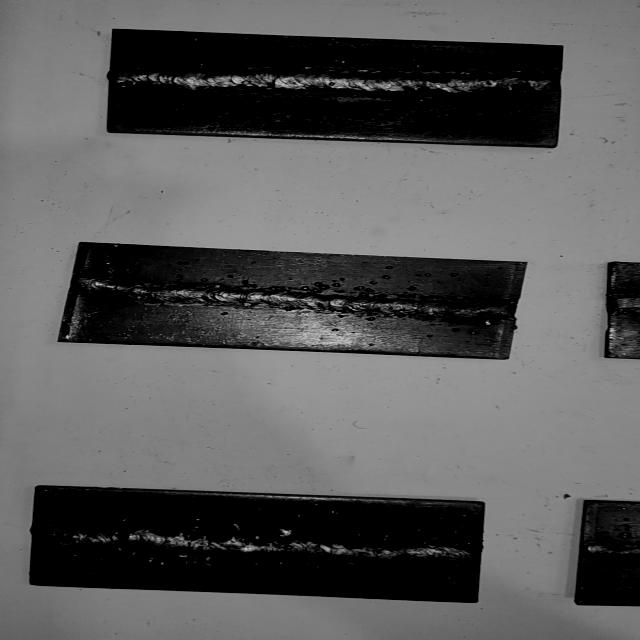Bad Weld: (75, 272, 511, 326), (36, 528, 473, 570)
Defect: (227, 516, 306, 544), (146, 541, 220, 570), (346, 270, 412, 302)
Good Weld: (110, 68, 562, 94)
